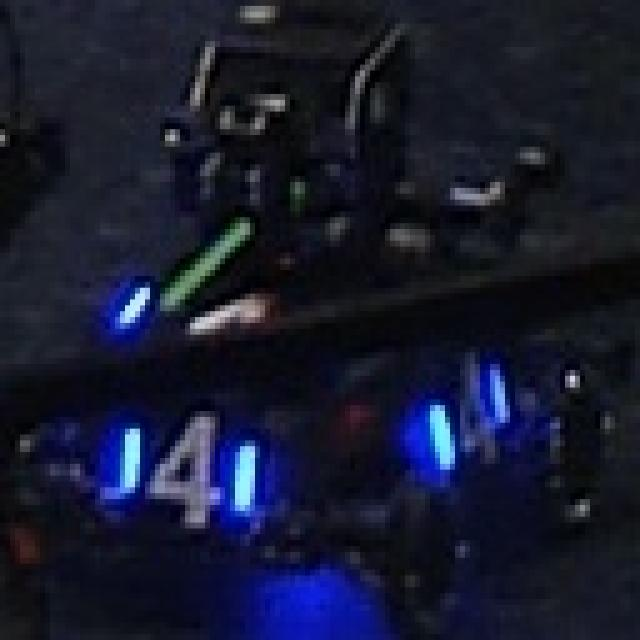B4: (115, 411, 265, 523), (405, 340, 520, 476)
